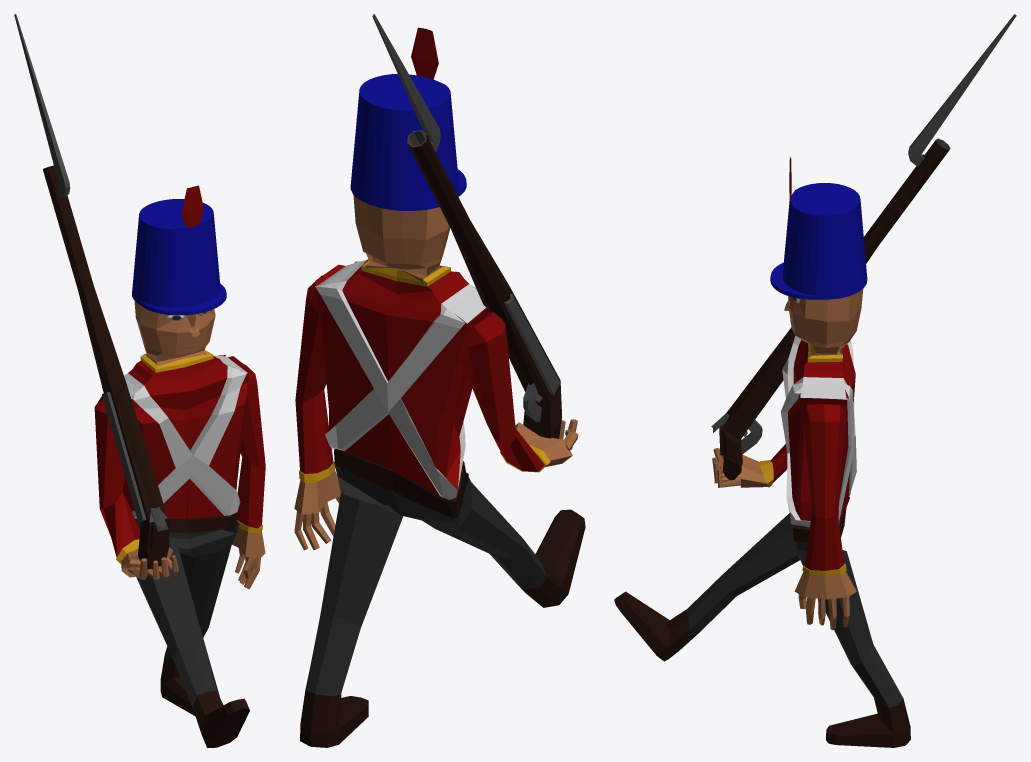
File: frame7.obj
3 views of the same model, side by side, from view 1: azimuth 30°, elevation 25°; view 2: azimuth 150°, elevation 25°; view 3: azimuth 270°, elevation 25° (orthographic). The views are drawn at different scales.
Parts seen in each view (by area): view 1: {Man}_Circle, {Mesket}_Cube.001; view 2: {Man}_Circle, {Mesket}_Cube.001; view 3: {Man}_Circle, {Mesket}_Cube.001.
Part boxes in pixels (left/top/right/bottom): {Man}_Circle: left=94, top=185, right=265, bottom=747; {Mesket}_Cube.001: left=14, top=14, right=169, bottom=569; {Man}_Circle: left=294, top=27, right=585, bottom=747; {Mesket}_Cube.001: left=372, top=14, right=561, bottom=438; {Man}_Circle: left=614, top=157, right=910, bottom=747; {Mesket}_Cube.001: left=711, top=14, right=1016, bottom=480.
Size of the model in its own units: 5.63 by 19.35 by 10.45.
